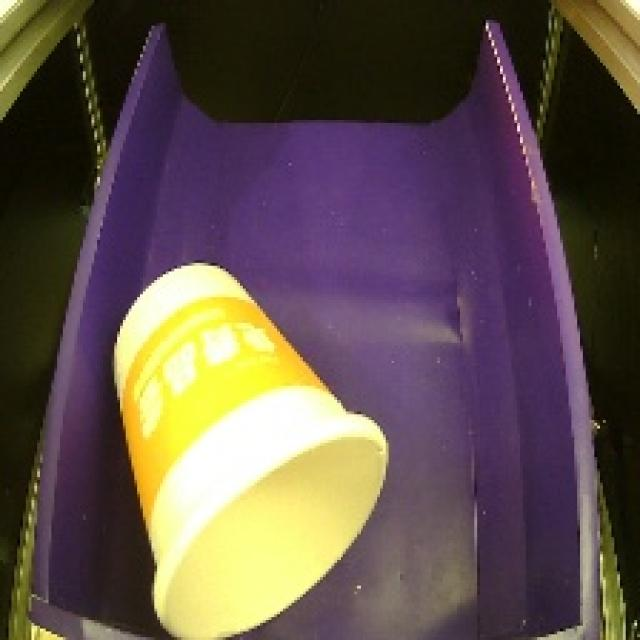cups: (94, 245, 397, 640)
